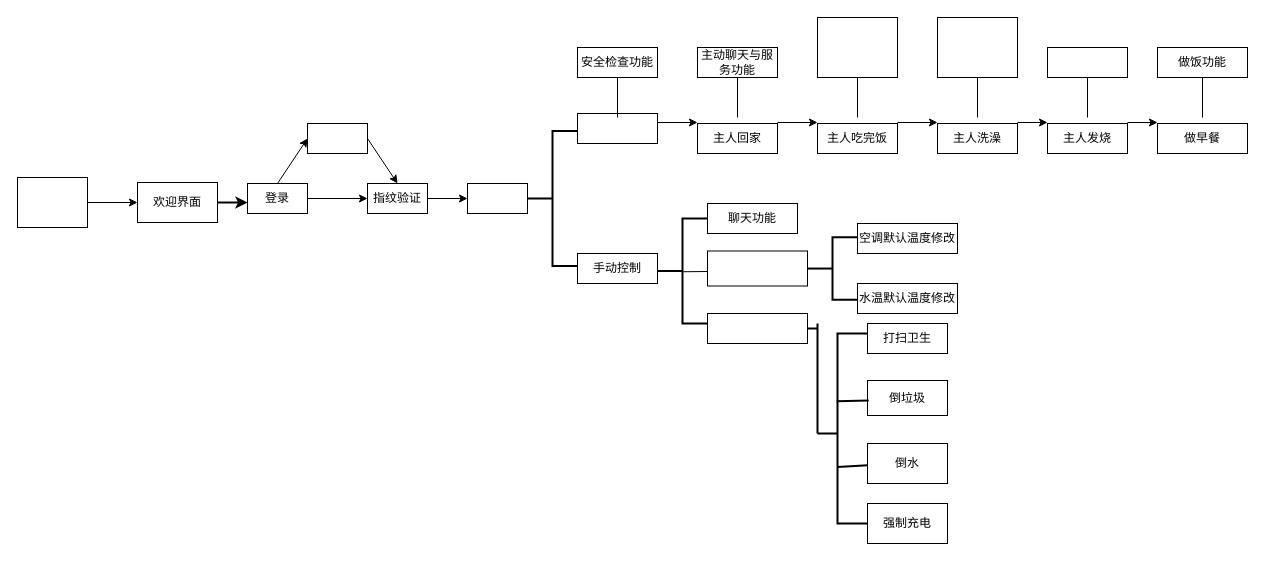
Image size: 1265x561. Some labels were removed from this diagram. Each missing label, with the centre of its shape:
主程序: point 497,198
做饭功能 + 主动聊天与服务功能: point 857,47
家居机器人模拟系统: point 52,202
小偷触发报警: point 617,128
手动指令: point 757,328
注册: point 337,138
生病救援功能: point 1087,62
自动换衣功能+ 控制电器功能: point 977,47
默认设置修改功能: point 757,268
